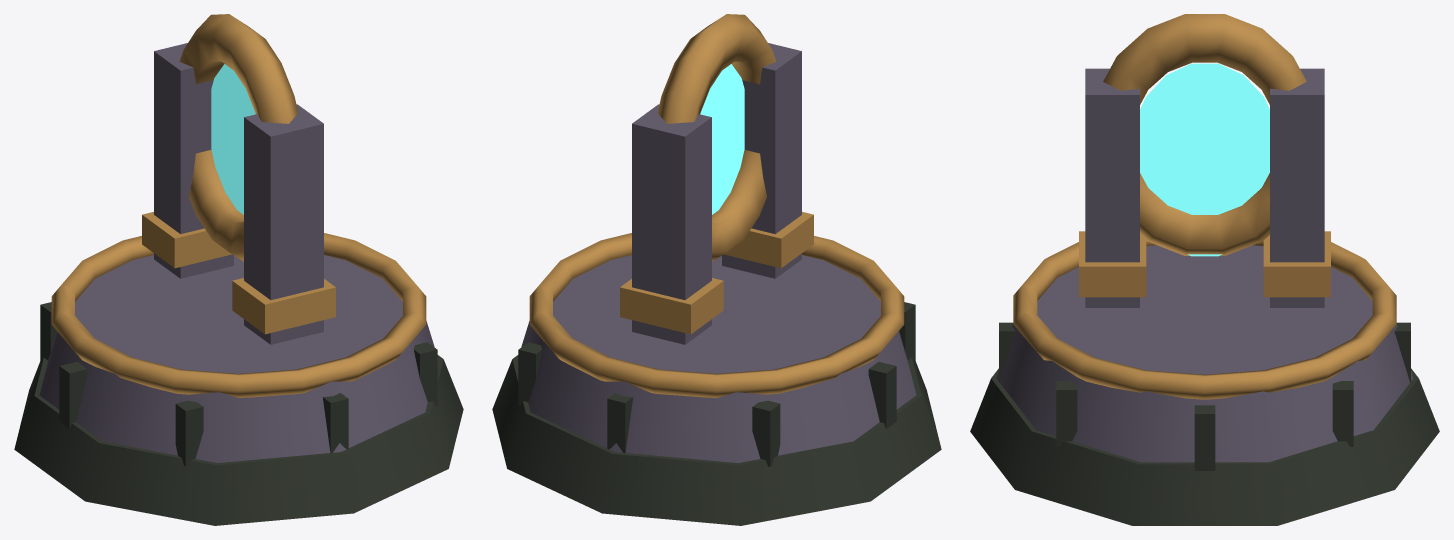
The model's file is tower_portal.glb.
The picture shows the model from 3 angles, left to right: view 1: azimuth 30°, elevation 25°; view 2: azimuth 150°, elevation 25°; view 3: azimuth 270°, elevation 25°; orthographic projection. The views are drawn at different scales.
Parts seen in each view (by area): view 1: stone_1, foot_0, rim_2, arch_pillar_11, arch_15, arch_pillar_13, portal_surface_16, band_12, band_14, mortar_6, mortar_7, mortar_5 (+2 smaller); view 2: stone_1, foot_0, rim_2, arch_pillar_13, arch_15, arch_pillar_11, portal_surface_16, band_14, band_12, mortar_8, mortar_7, mortar_9 (+2 smaller); view 3: stone_1, foot_0, portal_surface_16, arch_15, rim_2, arch_pillar_11, arch_pillar_13, band_12, band_14, mortar_3, mortar_4, mortar_10 (+2 smaller).
Part boxes in pixels (x1=…): stone_1: x1=39, y1=255, x2=438, y2=462; foot_0: x1=14, y1=355, x2=463, y2=525; rim_2: x1=51, y1=233, x2=426, y2=397; arch_pillar_11: x1=244, y1=104, x2=323, y2=344; arch_15: x1=179, y1=14, x2=298, y2=261; arch_pillar_13: x1=154, y1=43, x2=233, y2=278; portal_surface_16: x1=211, y1=64, x2=255, y2=214; band_12: x1=232, y1=278, x2=335, y2=334; band_14: x1=142, y1=212, x2=231, y2=268; mortar_6: x1=175, y1=400, x2=203, y2=466; mortar_7: x1=59, y1=362, x2=87, y2=428; mortar_5: x1=322, y1=393, x2=348, y2=452; stone_1: x1=517, y1=255, x2=916, y2=462; foot_0: x1=492, y1=355, x2=941, y2=525; rim_2: x1=529, y1=233, x2=904, y2=397; arch_pillar_13: x1=632, y1=104, x2=711, y2=344; arch_15: x1=657, y1=14, x2=776, y2=261; arch_pillar_11: x1=722, y1=43, x2=801, y2=278; portal_surface_16: x1=700, y1=64, x2=744, y2=214; band_14: x1=620, y1=278, x2=723, y2=334; band_12: x1=724, y1=212, x2=813, y2=268; mortar_8: x1=752, y1=400, x2=780, y2=466; mortar_7: x1=868, y1=362, x2=896, y2=428; mortar_9: x1=607, y1=393, x2=633, y2=452; stone_1: x1=996, y1=245, x2=1413, y2=462; foot_0: x1=970, y1=368, x2=1439, y2=525; portal_surface_16: x1=1140, y1=63, x2=1269, y2=256; arch_15: x1=1103, y1=14, x2=1306, y2=255; rim_2: x1=1013, y1=241, x2=1396, y2=399; arch_pillar_11: x1=1085, y1=68, x2=1139, y2=307; arch_pillar_13: x1=1270, y1=68, x2=1324, y2=307; band_12: x1=1079, y1=231, x2=1146, y2=297; band_14: x1=1263, y1=231, x2=1330, y2=297; mortar_3: x1=1194, y1=405, x2=1215, y2=470; mortar_4: x1=1056, y1=381, x2=1077, y2=446; mortar_10: x1=1332, y1=381, x2=1353, y2=446.
Size of the model in its own units: 0.5326 by 0.5492 by 0.56.
